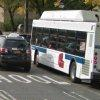Bus: (25, 9, 99, 76)
